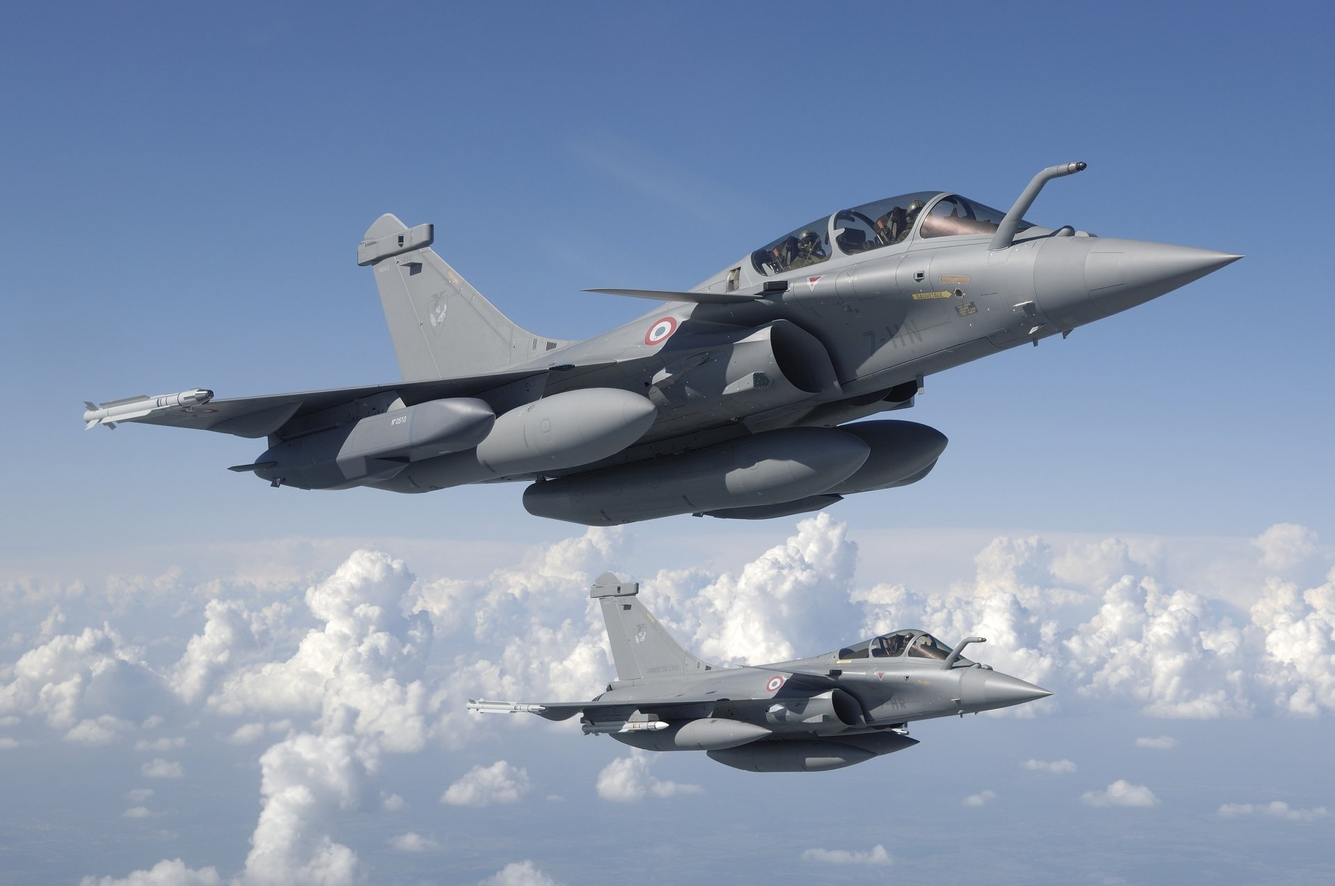Rafale: (82, 159, 1246, 528), (466, 570, 1054, 772)
